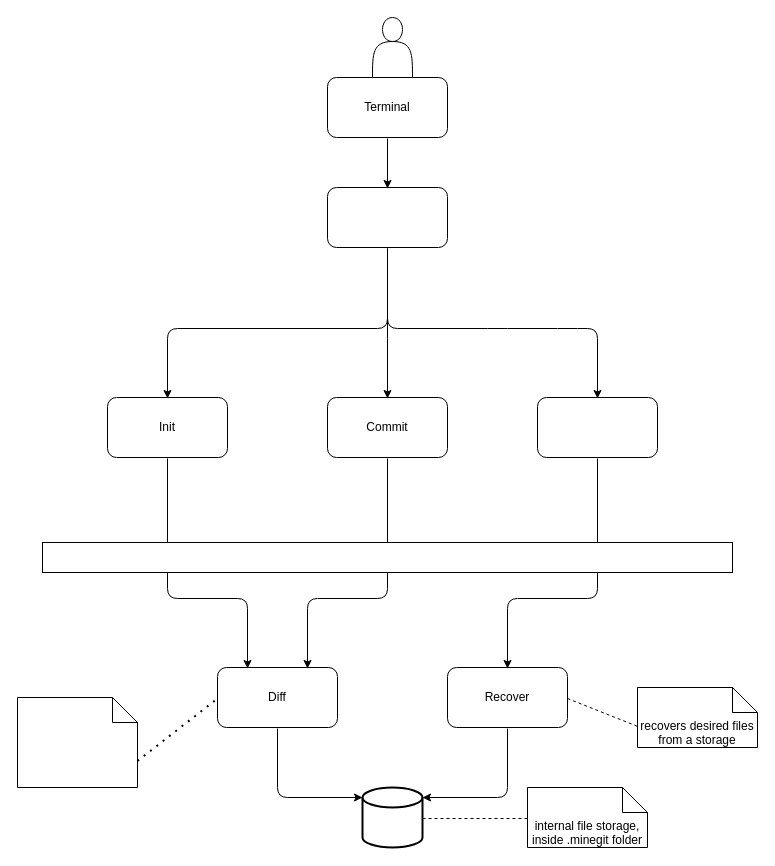
This 775x866 diagram has some shape labels left out. The centre of each missing label's shape, as x and y in pixels:
"CLI" belongs at point (387, 217).
"Commit managing system" belongs at point (387, 557).
"generates the difference between old and new file and insert it into a storage" belongs at point (77, 742).
"Restore" belongs at point (597, 427).
